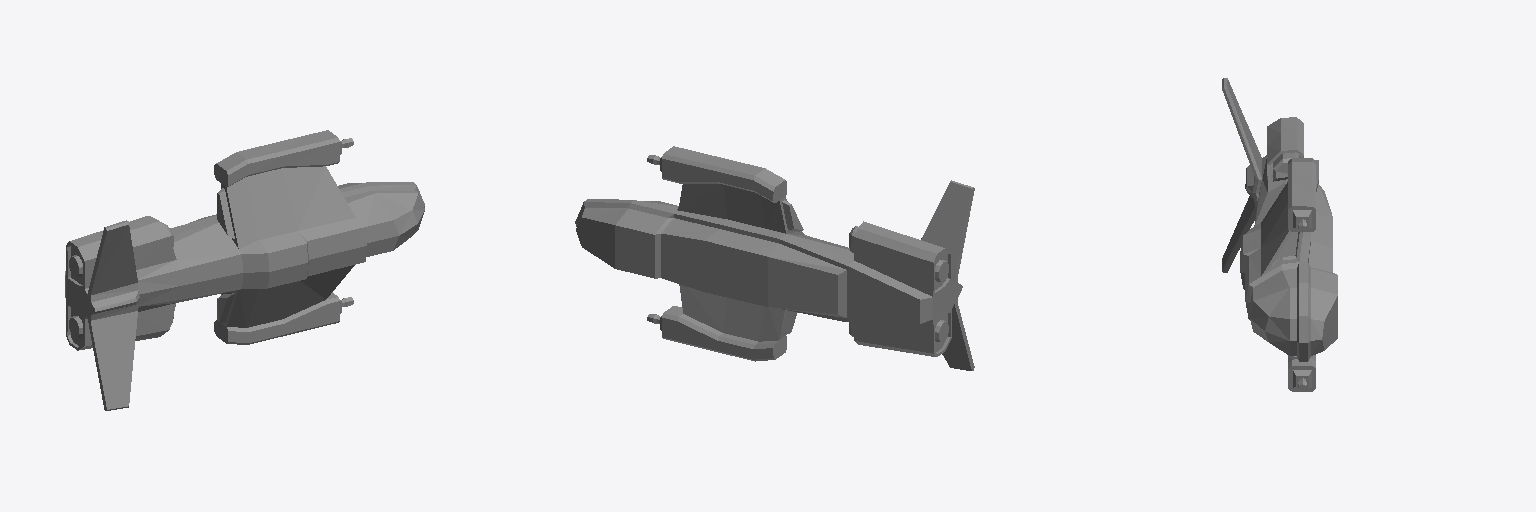
Rendered from Trident-A10.obj.
3 views of the same model, side by side, from view 1: azimuth 30°, elevation 25°; view 2: azimuth 150°, elevation 25°; view 3: azimuth 270°, elevation 25° (orthographic).
Visible parts, largest first — view 1: Trident_Space_Fighter; view 2: Trident_Space_Fighter; view 3: Trident_Space_Fighter.
Boxes of the visible parts, <box> form: Trident_Space_Fighter: <box>65,130,424,410</box>; Trident_Space_Fighter: <box>575,146,974,370</box>; Trident_Space_Fighter: <box>1222,78,1337,391</box>.
Size of the model in its own units: 2058 by 1023 by 580.